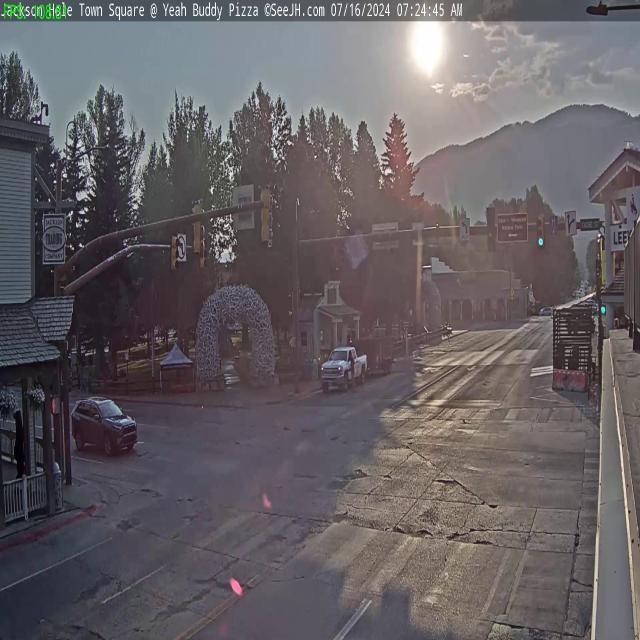person: (349, 353, 357, 391)
pickup: (320, 342, 368, 394)
suv: (70, 394, 138, 458)
traffic light: (260, 184, 272, 246), (190, 199, 203, 256), (486, 206, 496, 253), (170, 235, 179, 272), (537, 214, 545, 248)
